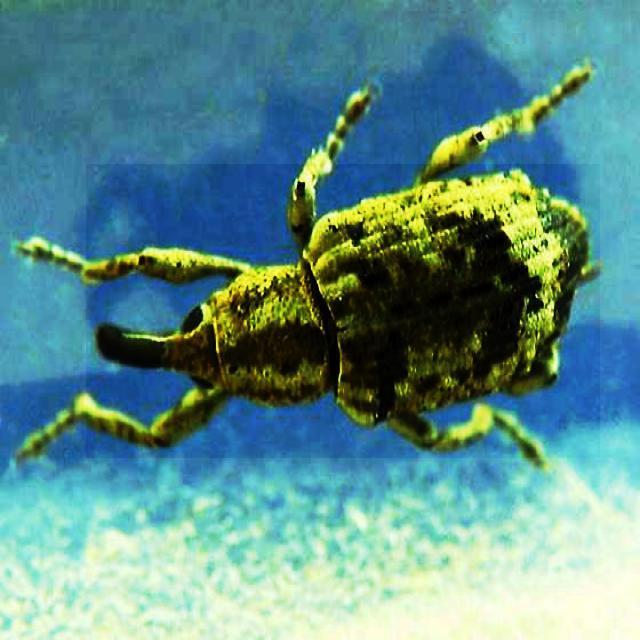rice-bug: (86, 164, 600, 458)
